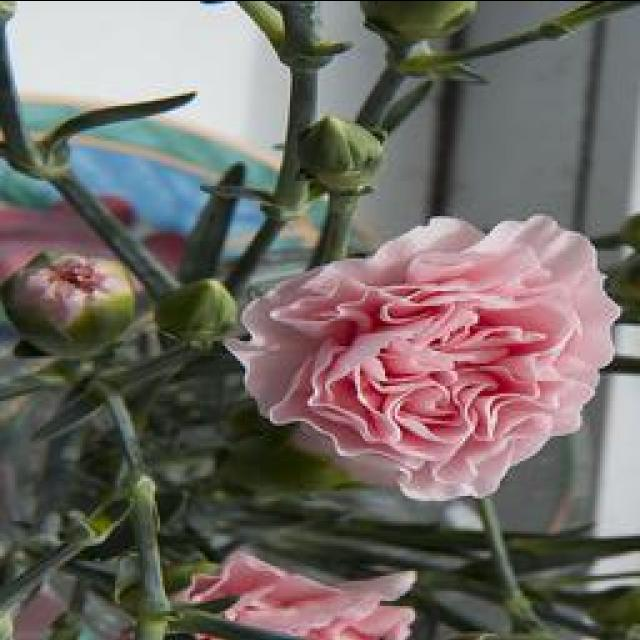carnation: (223, 210, 617, 507)
